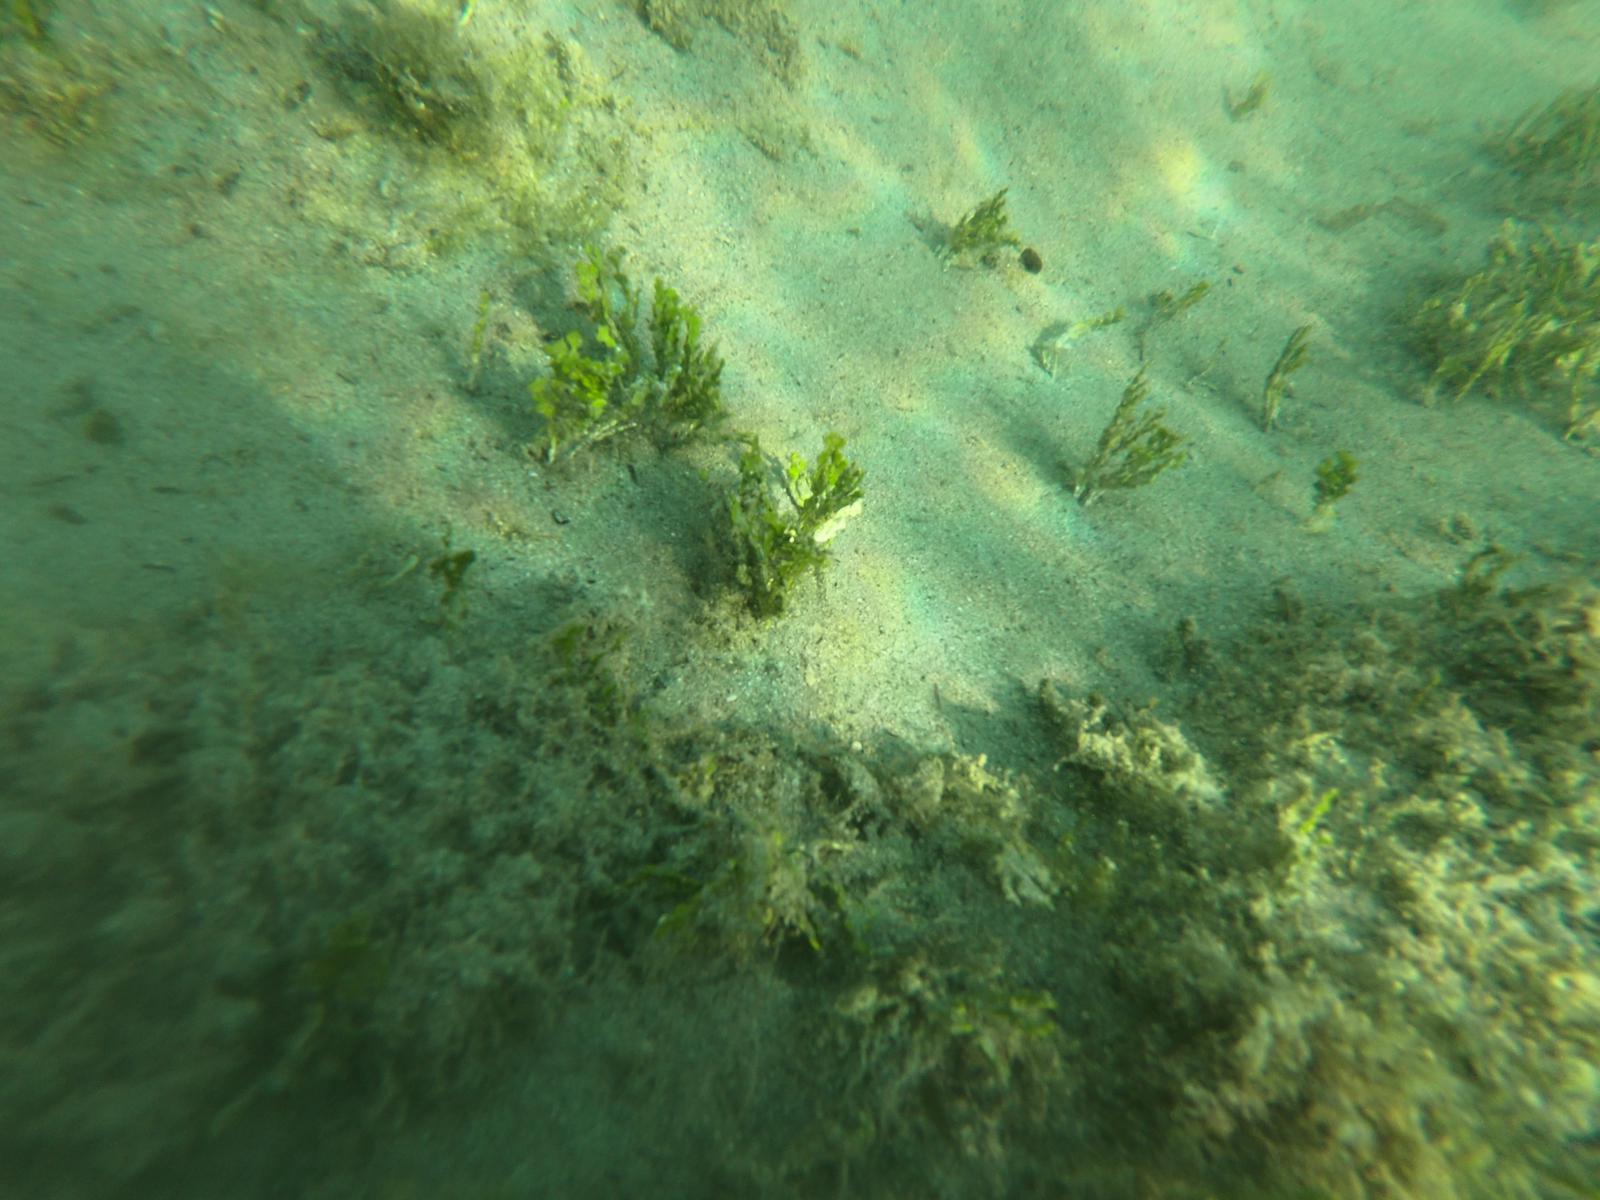halimeda: (533, 238, 724, 460), (721, 421, 866, 611), (1078, 361, 1193, 499), (946, 184, 1015, 271), (1304, 437, 1364, 523), (1264, 324, 1306, 437), (430, 548, 472, 626)
